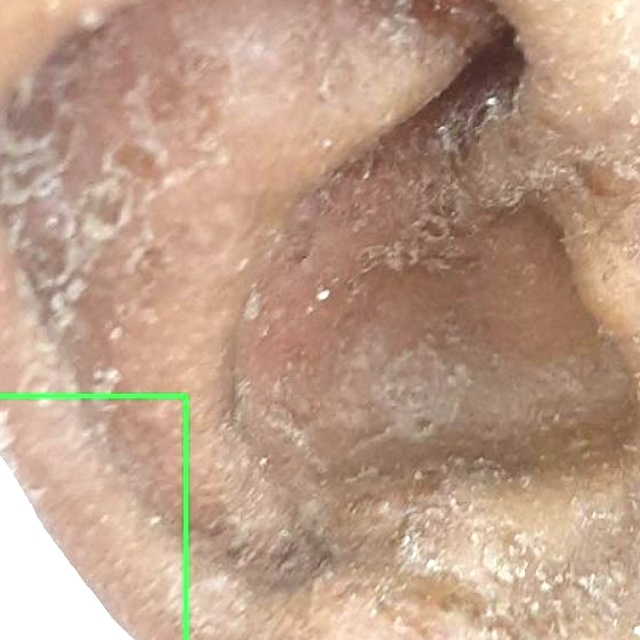Eczema: (0, 395, 185, 639)
